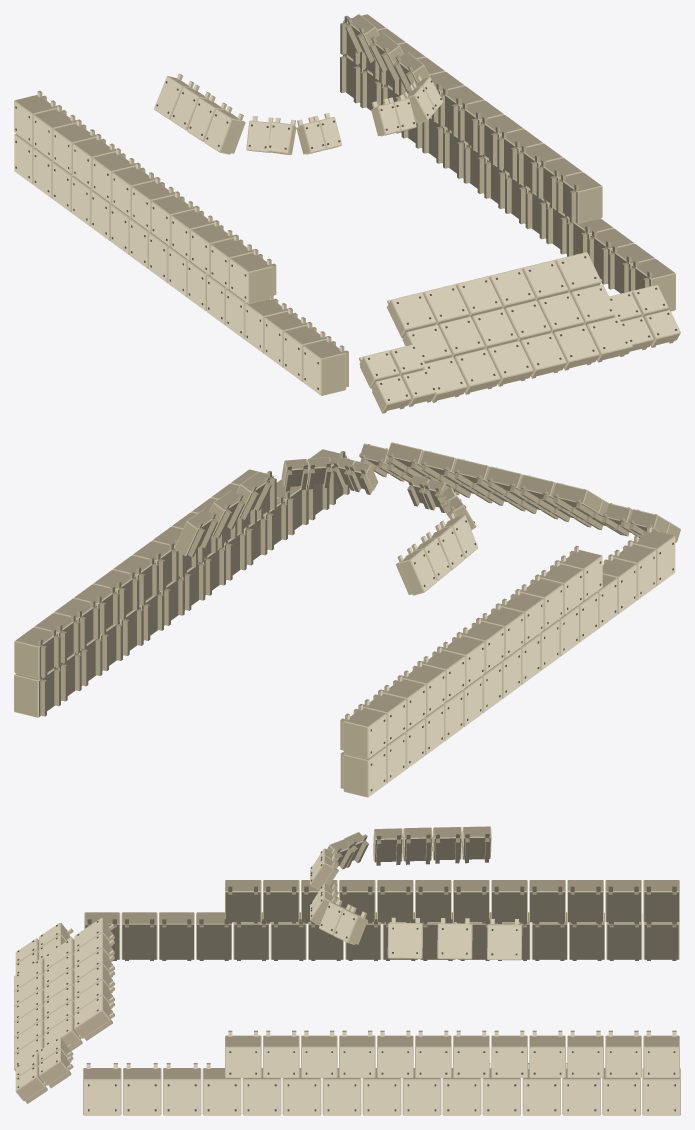
Rendered from era_kit.glb.
3 views of the same model, one above another, from view 1: azimuth 30°, elevation 25°; view 2: azimuth 150°, elevation 25°; view 3: azimuth 270°, elevation 25° (orthographic). The views are drawn at different scales.
Parts seen in each view (by area): view 1: ERA_M5_L_LOW_01, ERA_M5_L_HIGH_01, ERA_M5_R_HIGH_01, ERA_M5_R_LOW_01, ERA_M3_FRONT_3_1, ERA_M3_FRONT_1_4, ERA_M3_FRONT_1_2, ERA_M3_FRONT_1_3, ERA_M3_FRONT_1_5, ERA_M3_FRONT_1_6, ERA_M6_TURRET_L_04, ERA_M5_L_LOW_02 (+75 smaller); view 2: ERA_M5_L_HIGH_12, ERA_M5_R_HIGH_12, ERA_M5_R_LOW_15, ERA_M5_L_LOW_16, ERA_M6_TURRET_L_01, ERA_M5_L_LOW_02, ERA_M5_L_LOW_01, ERA_M6_TURRET_R_03, ERA_M5_L_HIGH_11, ERA_M5_L_HIGH_03, ERA_M5_L_HIGH_06, ERA_M5_L_HIGH_08 (+59 smaller); view 3: ERA_M5_R_LOW_01, ERA_M5_R_LOW_02, ERA_M5_R_LOW_03, ERA_M5_L_LOW_02, ERA_M5_R_LOW_04, ERA_M5_L_LOW_03, ERA_M5_L_LOW_04, ERA_M5_R_HIGH_03, ERA_M5_R_HIGH_04, ERA_M5_R_HIGH_05, ERA_M5_R_HIGH_10, ERA_M5_R_HIGH_11 (+74 smaller).
Part boxes in pixels (box(x1,y1,x2,y2)): ERA_M5_L_LOW_01: box(303, 336, 348, 395); ERA_M5_L_HIGH_01: box(230, 249, 276, 303); ERA_M5_R_HIGH_01: box(556, 172, 602, 223); ERA_M5_R_LOW_01: box(628, 259, 675, 311); ERA_M3_FRONT_3_1: box(387, 292, 436, 338); ERA_M3_FRONT_1_4: box(520, 333, 566, 378); ERA_M3_FRONT_1_2: box(454, 349, 500, 394); ERA_M3_FRONT_1_3: box(487, 341, 533, 386); ERA_M3_FRONT_1_5: box(553, 324, 599, 370); ERA_M3_FRONT_1_6: box(586, 317, 632, 362); ERA_M6_TURRET_L_04: box(204, 106, 245, 154); ERA_M5_L_LOW_02: box(284, 321, 326, 381); ERA_M5_L_HIGH_12: box(340, 704, 386, 758); ERA_M5_R_HIGH_12: box(14, 627, 60, 678); ERA_M5_R_LOW_15: box(14, 667, 60, 717); ERA_M5_L_LOW_16: box(340, 747, 386, 797); ERA_M6_TURRET_L_01: box(396, 547, 437, 595); ERA_M5_L_LOW_02: box(613, 540, 655, 600); ERA_M5_L_LOW_01: box(632, 526, 675, 586); ERA_M6_TURRET_R_03: box(174, 509, 218, 557); ERA_M5_L_HIGH_11: box(363, 689, 406, 744); ERA_M5_L_HIGH_03: box(520, 574, 563, 629); ERA_M5_L_HIGH_06: box(461, 617, 504, 672); ERA_M5_L_HIGH_08: box(422, 646, 465, 701); ERA_M5_R_LOW_01: box(83, 1063, 121, 1115); ERA_M5_R_LOW_02: box(123, 1063, 161, 1115); ERA_M5_R_LOW_03: box(163, 1063, 201, 1115); ERA_M5_L_LOW_02: box(121, 912, 157, 960); ERA_M5_R_LOW_04: box(202, 1063, 241, 1115); ERA_M5_L_LOW_03: box(159, 912, 194, 960); ERA_M5_L_LOW_04: box(196, 912, 231, 960); ERA_M5_R_HIGH_03: box(301, 1030, 337, 1077); ERA_M5_R_HIGH_04: box(339, 1030, 375, 1077); ERA_M5_R_HIGH_05: box(377, 1030, 413, 1077); ERA_M5_R_HIGH_10: box(567, 1030, 603, 1077); ERA_M5_R_HIGH_11: box(605, 1030, 641, 1077).
Size of the model in its own units: 3.55 by 1.53 by 5.96.
